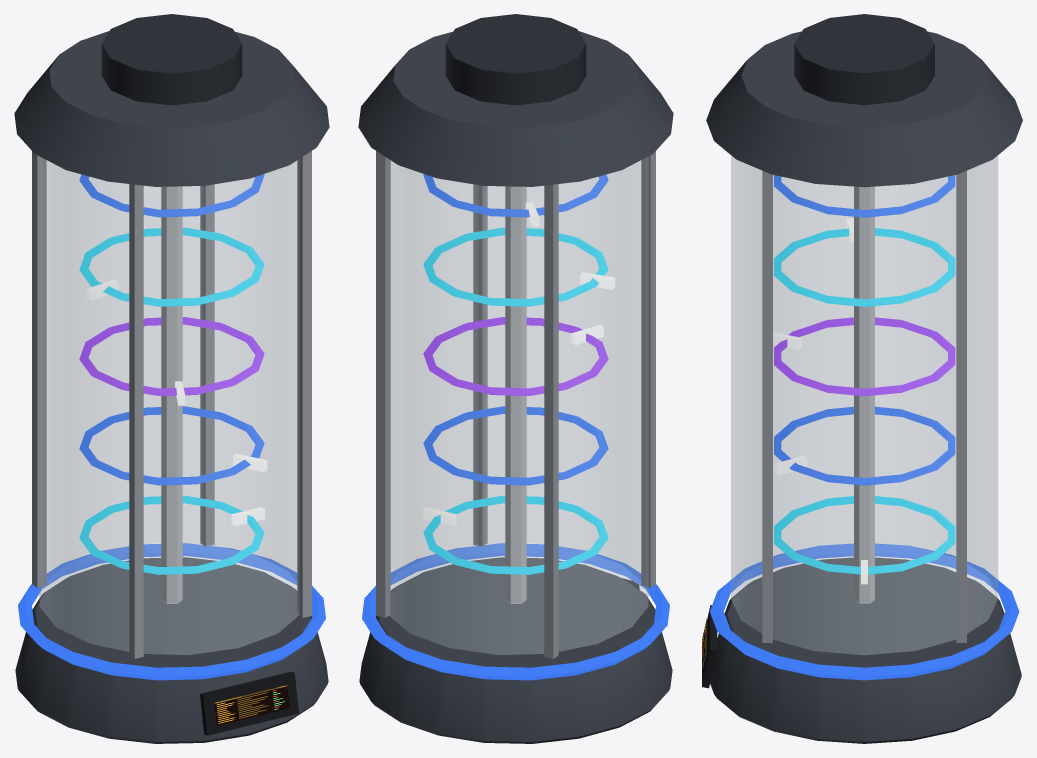
File: storage_holo_storage_cylinder.glb
3 renders of one model, left to right at view 1: azimuth 30°, elevation 25°; view 2: azimuth 150°, elevation 25°; view 3: azimuth 270°, elevation 25°, orthographic.
Visible parts, largest first — view 1: storage_holo_storage_cylinder; view 2: storage_holo_storage_cylinder; view 3: storage_holo_storage_cylinder.
Part boxes in pixels (box(x1,y1,x2,y2)): storage_holo_storage_cylinder: box(14, 14, 329, 743); storage_holo_storage_cylinder: box(358, 14, 673, 743); storage_holo_storage_cylinder: box(702, 14, 1022, 743).
Size of the model in its own units: 0.9 by 1.99 by 0.9119.
11 materials, 1 textured.
